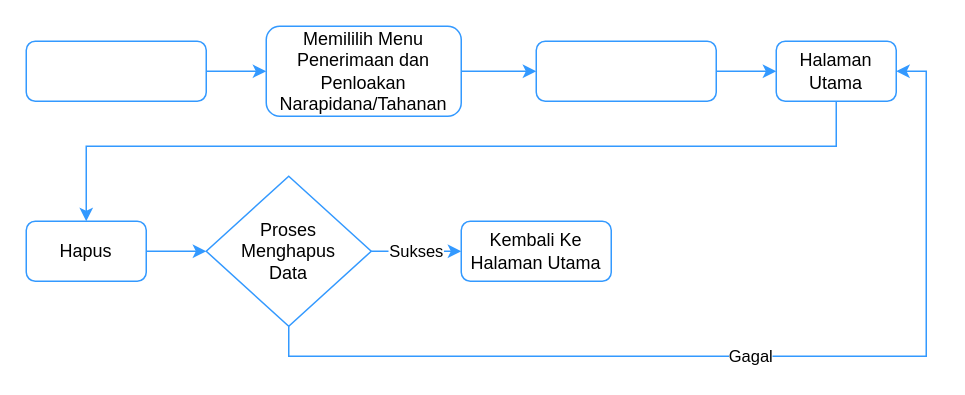
The diagram is 965 pixels wide and 395 high, and some of its shapes have lost their labels. Here are the shapes that lost their labels. From the top down, the centre of each, then its label:
the point at 115,70: Memilih Menu Registrasi
the point at 625,70: Memilih Menu Penolakan
